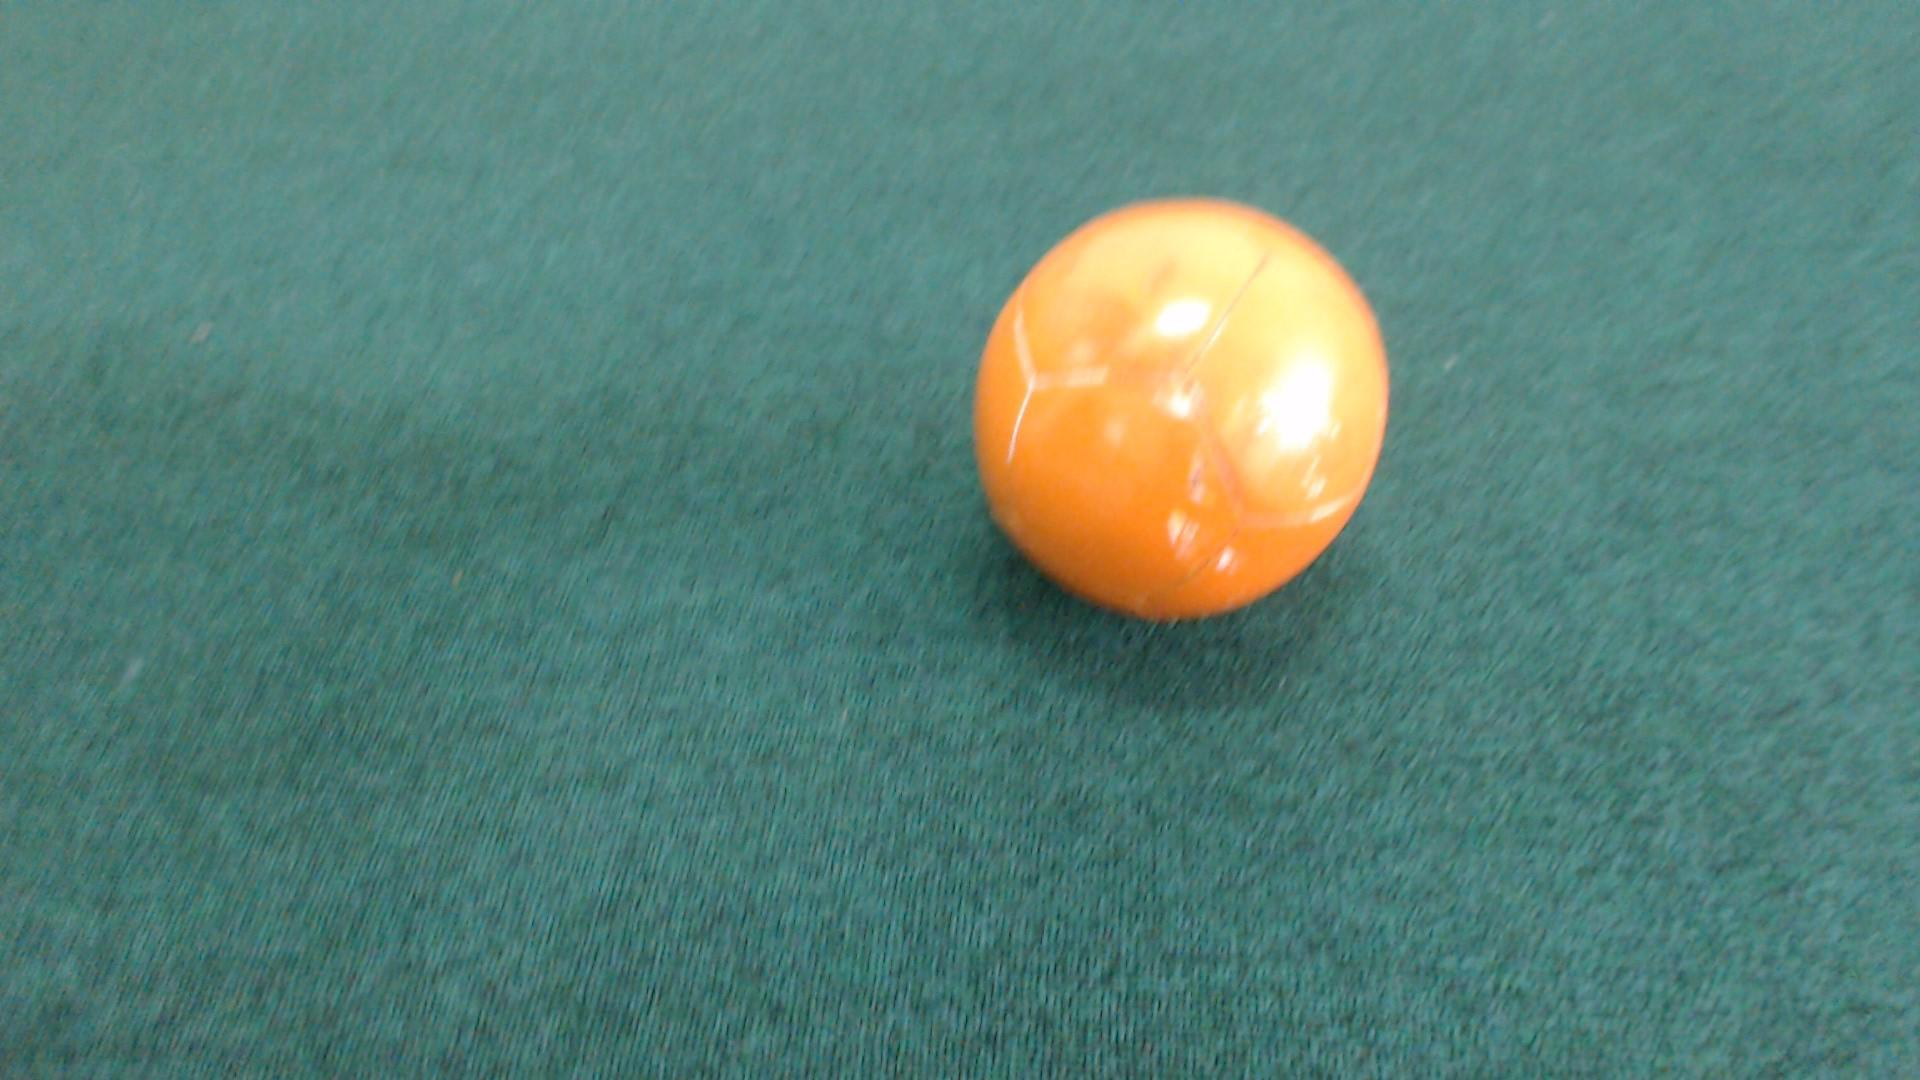bola: (951, 182, 1411, 629)
